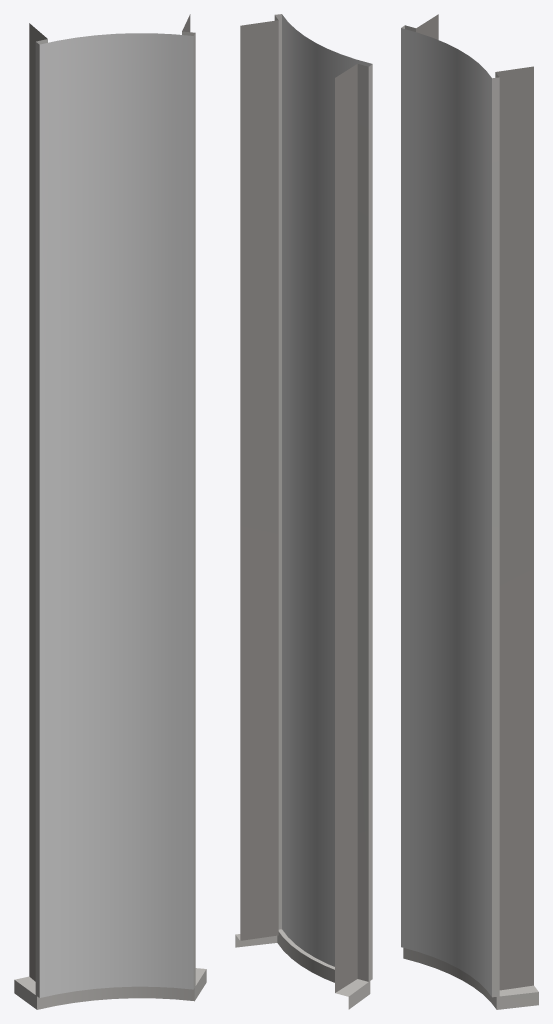
Rendered from MMo_W_001_COL_c_2x10.fbx.
The picture shows the model from 3 angles, left to right: view 1: azimuth 30°, elevation 25°; view 2: azimuth 150°, elevation 25°; view 3: azimuth 330°, elevation 25°; orthographic projection. The views are drawn at different scales.
Visible parts, largest first — view 1: MMo_W_001_COL_c_2x10; view 2: MMo_W_001_COL_c_2x10; view 3: MMo_W_001_COL_c_2x10.
Boxes of the visible parts, x1=… form: MMo_W_001_COL_c_2x10: x1=14, y1=14, x2=206, y2=1009; MMo_W_001_COL_c_2x10: x1=235, y1=14, x2=372, y2=1009; MMo_W_001_COL_c_2x10: x1=401, y1=14, x2=538, y2=1009.
Bounding box in the file's own units: 1.78 × 10.6 × 1.09.
